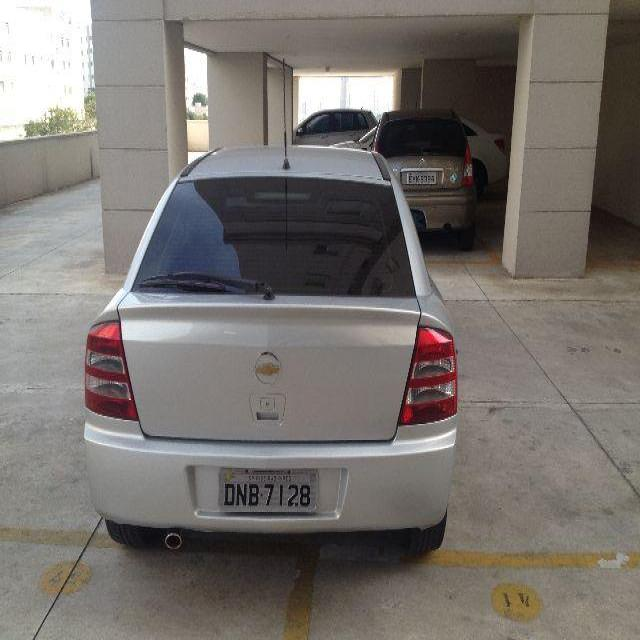Placa: (218, 464, 322, 520), (406, 172, 439, 184)
